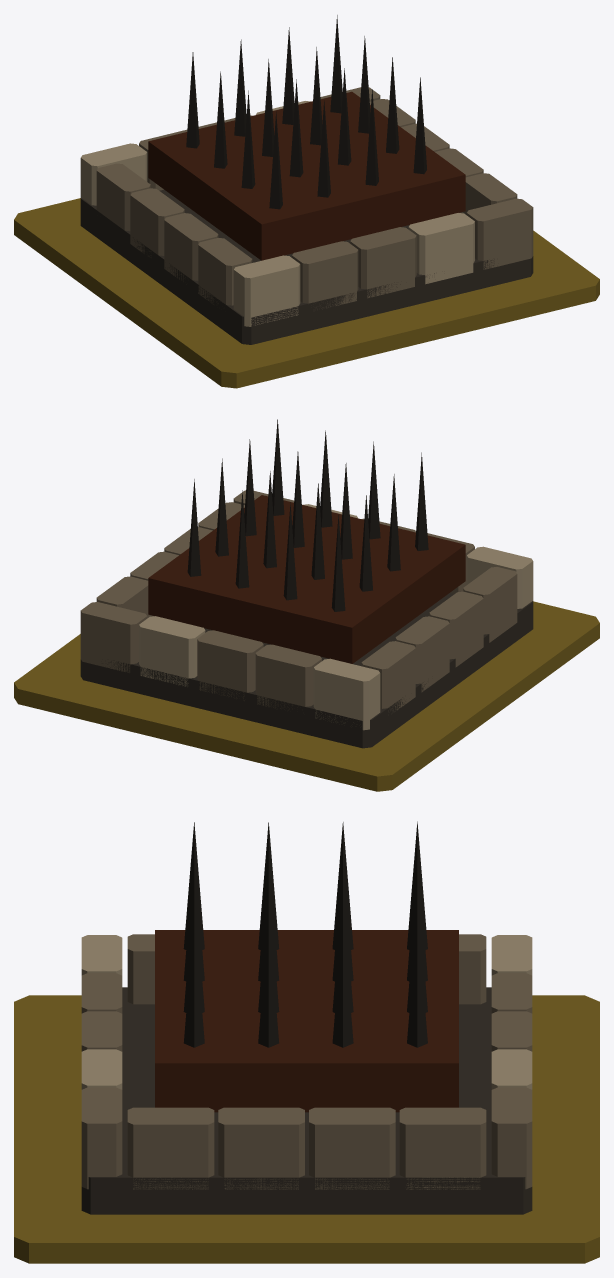
File: trap_t2.glb
3 views of the same model, one above another, from view 1: azimuth 30°, elevation 25°; view 2: azimuth 150°, elevation 25°; view 3: azimuth 270°, elevation 25° (orthographic). The views are drawn at different scales.
Parts seen in each view (by area): view 1: MMR | trap | T02 Architecture.001, MMR | trap | Tier 02 Ground.001; view 2: MMR | trap | T02 Architecture.001, MMR | trap | Tier 02 Ground.001; view 3: MMR | trap | T02 Architecture.001, MMR | trap | Tier 02 Ground.001.
Boxes of the visible parts, left/top/right/bottom form: MMR | trap | T02 Architecture.001: left=80, top=15, right=533, bottom=344; MMR | trap | Tier 02 Ground.001: left=14, top=198, right=599, bottom=388; MMR | trap | T02 Architecture.001: left=80, top=419, right=533, bottom=748; MMR | trap | Tier 02 Ground.001: left=14, top=601, right=599, bottom=791; MMR | trap | T02 Architecture.001: left=81, top=821, right=532, bottom=1214; MMR | trap | Tier 02 Ground.001: left=14, top=995, right=599, bottom=1263.
Bounding box in the file's own units: 1.3 × 0.665 × 1.3.
1 material, 1 textured.
